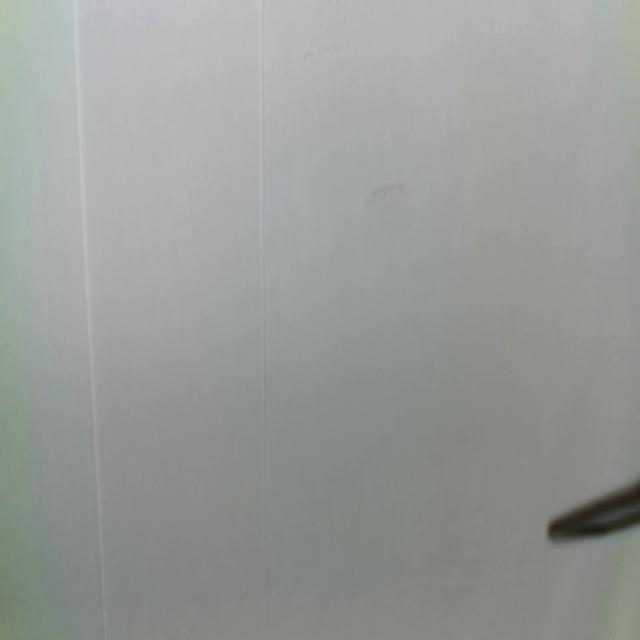crease: (71, 1, 110, 640), (258, 0, 274, 640)
